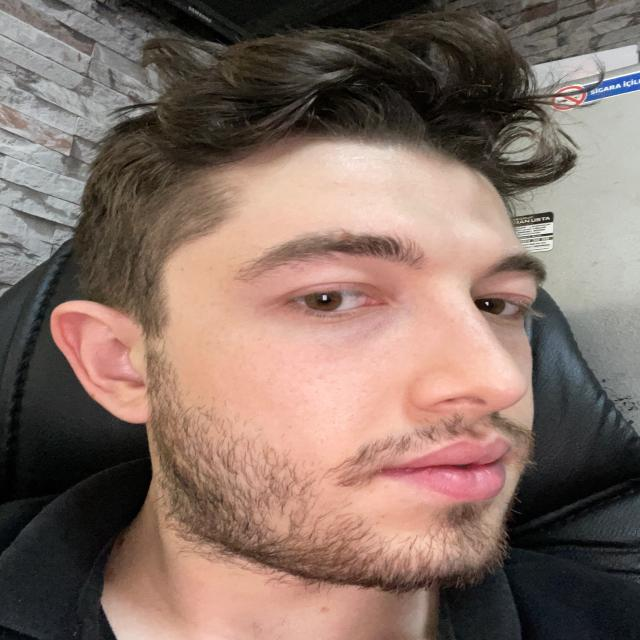Englarged-Pores: (280, 361, 366, 441)
Eyebags: (264, 303, 406, 347)
Wrinkles: (349, 157, 408, 166)
